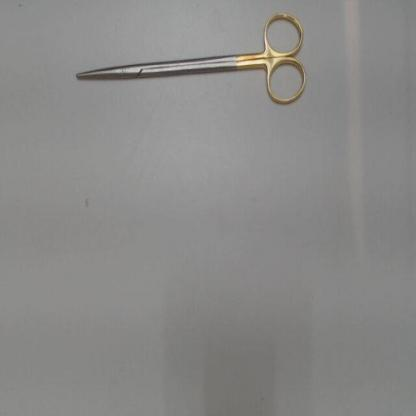7 Metzenbaum Scissors: (76, 17, 308, 110)
